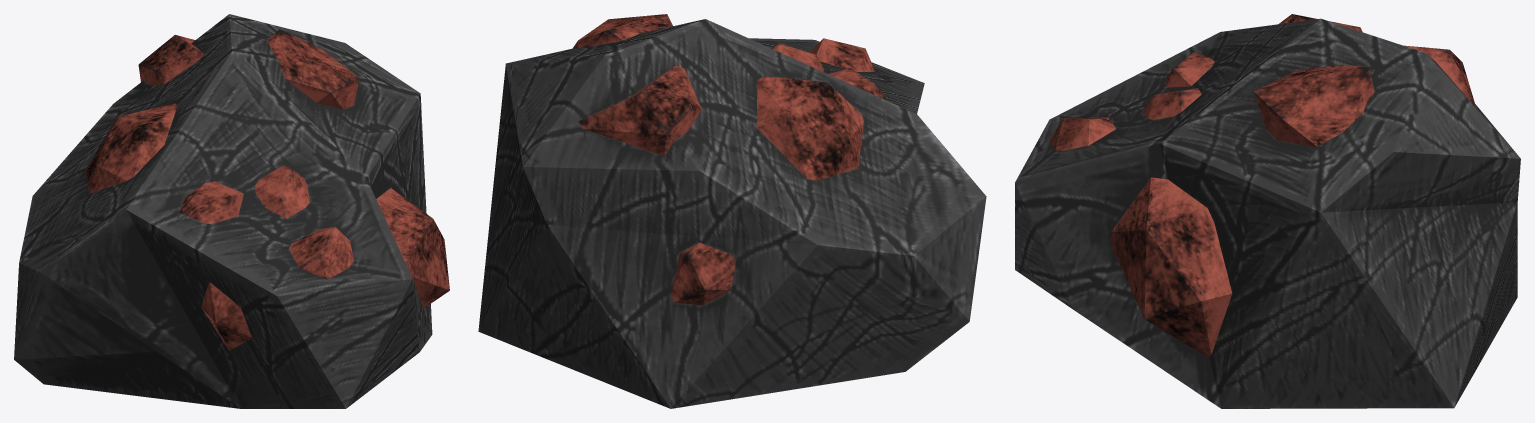
The model's file is copper.glb.
3 renders of one model, left to right at view 1: azimuth 30°, elevation 25°; view 2: azimuth 150°, elevation 25°; view 3: azimuth 270°, elevation 25°, orthographic. The views are drawn at different scales.
Parts seen in each view (by area): view 1: copper; view 2: copper; view 3: copper.
Part boxes in pixels (bbox=[...]): copper: bbox=[14, 14, 449, 408]; copper: bbox=[478, 14, 986, 408]; copper: bbox=[1015, 14, 1520, 408].
Size of the model in its own units: 0.7885 by 0.6 by 0.7591.
Materials: 1 (1 with a texture image).
